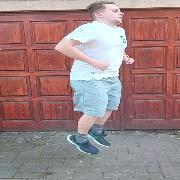high_jumps: (56, 0, 139, 158)
